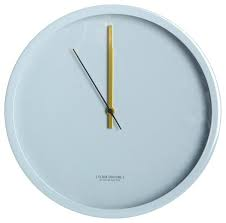clock: (4, 4, 221, 219)
